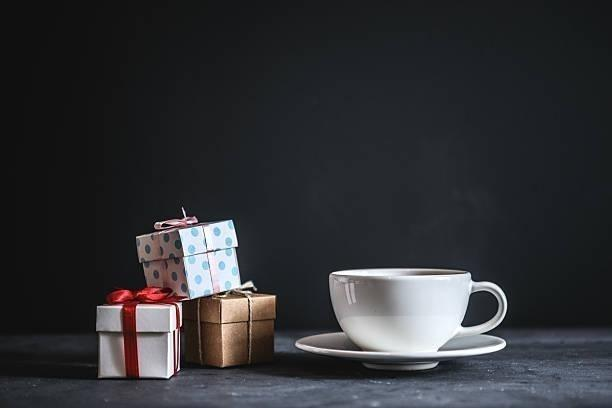cup-handle: (328, 265, 508, 353)
